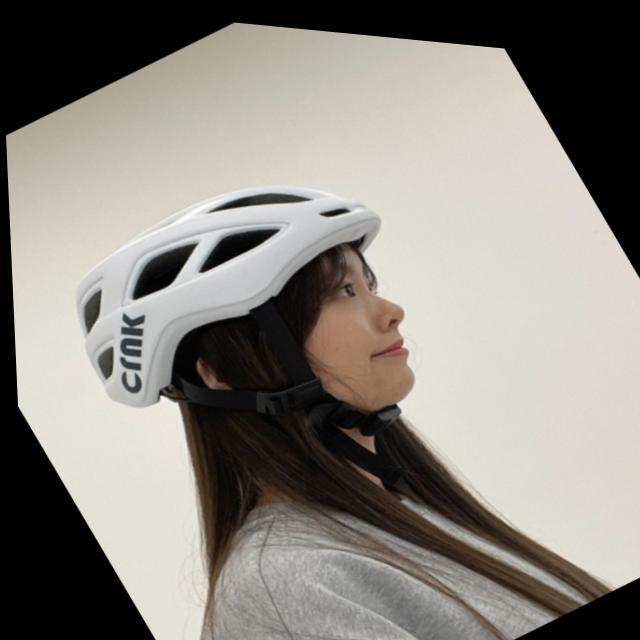Helmet: (73, 182, 428, 425)
